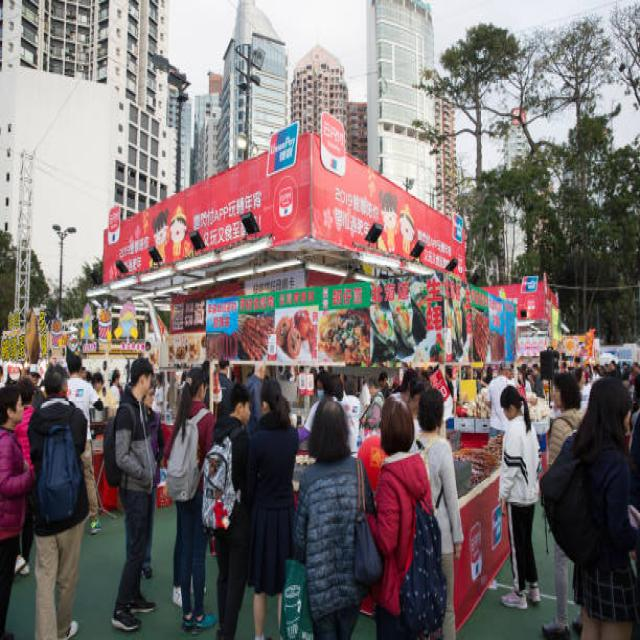Emperan: (203, 269, 562, 613)
